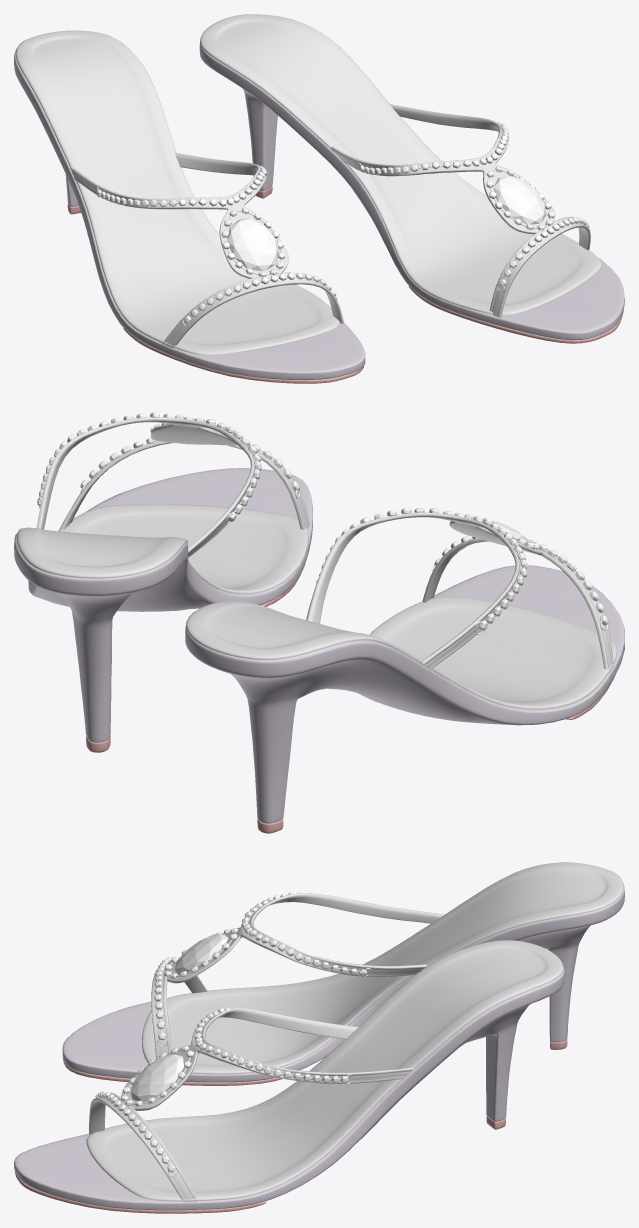
Rendered from shoes.glb.
The picture shows the model from 3 angles, top to bottom: view 1: azimuth 30°, elevation 25°; view 2: azimuth 150°, elevation 25°; view 3: azimuth 270°, elevation 25°; orthographic projection. The views are drawn at different scales.
Visible parts, largest first — view 1: arch49_045_obj_07, arch49_045_obj_02, arch49_045_obj_00, arch49_045_obj_09, arch49_045_obj_06, arch49_045_obj_04, arch49_045_obj_08, arch49_045_obj_01; view 2: arch49_045_obj_07, arch49_045_obj_09, arch49_045_obj_02, arch49_045_obj_00, arch49_045_obj_06, arch49_045_obj_04; view 3: arch49_045_obj_02, arch49_045_obj_07, arch49_045_obj_00, arch49_045_obj_09, arch49_045_obj_04, arch49_045_obj_06, arch49_045_obj_01, arch49_045_obj_08.
Boxes of the visible parts, x1,y1,x2,y2 form: arch49_045_obj_07: (15,30,343,355); arch49_045_obj_02: (200,14,601,317); arch49_045_obj_00: (199,41,624,340); arch49_045_obj_09: (14,48,365,380); arch49_045_obj_06: (96,165,336,323); arch49_045_obj_04: (359,119,590,286); arch49_045_obj_08: (67,204,364,383); arch49_045_obj_01: (255,186,622,343); arch49_045_obj_07: (186,512,617,709); arch49_045_obj_09: (185,565,624,823); arch49_045_obj_02: (17,417,310,593); arch49_045_obj_00: (14,468,312,742); arch49_045_obj_06: (316,508,608,630); arch49_045_obj_04: (37,412,299,521); arch49_045_obj_02: (86,940,563,1202); arch49_045_obj_07: (142,862,623,1074); arch49_045_obj_00: (14,965,564,1210); arch49_045_obj_09: (62,884,624,1082); arch49_045_obj_04: (95,1007,348,1172); arch49_045_obj_06: (154,892,367,1039); arch49_045_obj_01: (15,1116,505,1213); arch49_045_obj_08: (63,1038,567,1085).
Size of the model in its own units: 1.28 by 0.4497 by 1.54.
